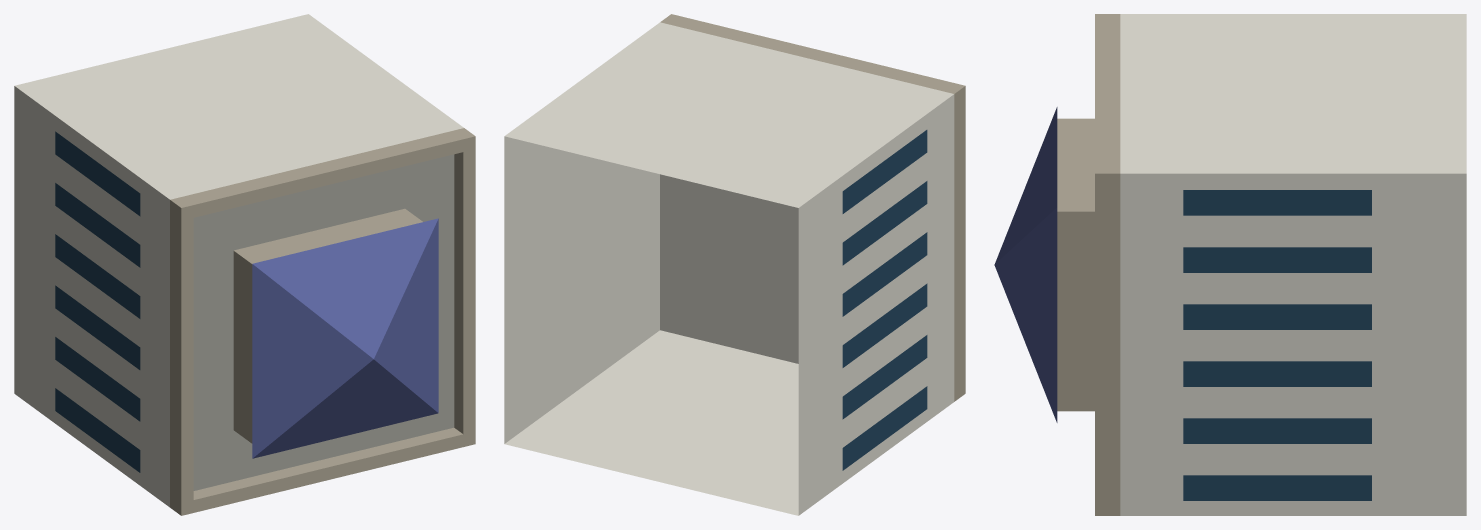
File: construction_2.glb
The picture shows the model from 3 angles, left to right: view 1: azimuth 30°, elevation 25°; view 2: azimuth 150°, elevation 25°; view 3: azimuth 270°, elevation 25°; orthographic projection. The views are drawn at different scales.
Visible parts, largest first — view 1: c2; view 2: c2; view 3: c2.
Part boxes in pixels (x1=…): c2: x1=14, y1=14, x2=475, y2=515; c2: x1=504, y1=14, x2=965, y2=515; c2: x1=994, y1=14, x2=1466, y2=515.
Bounding box in the file's own units: 12.12 × 12.06 × 15.
